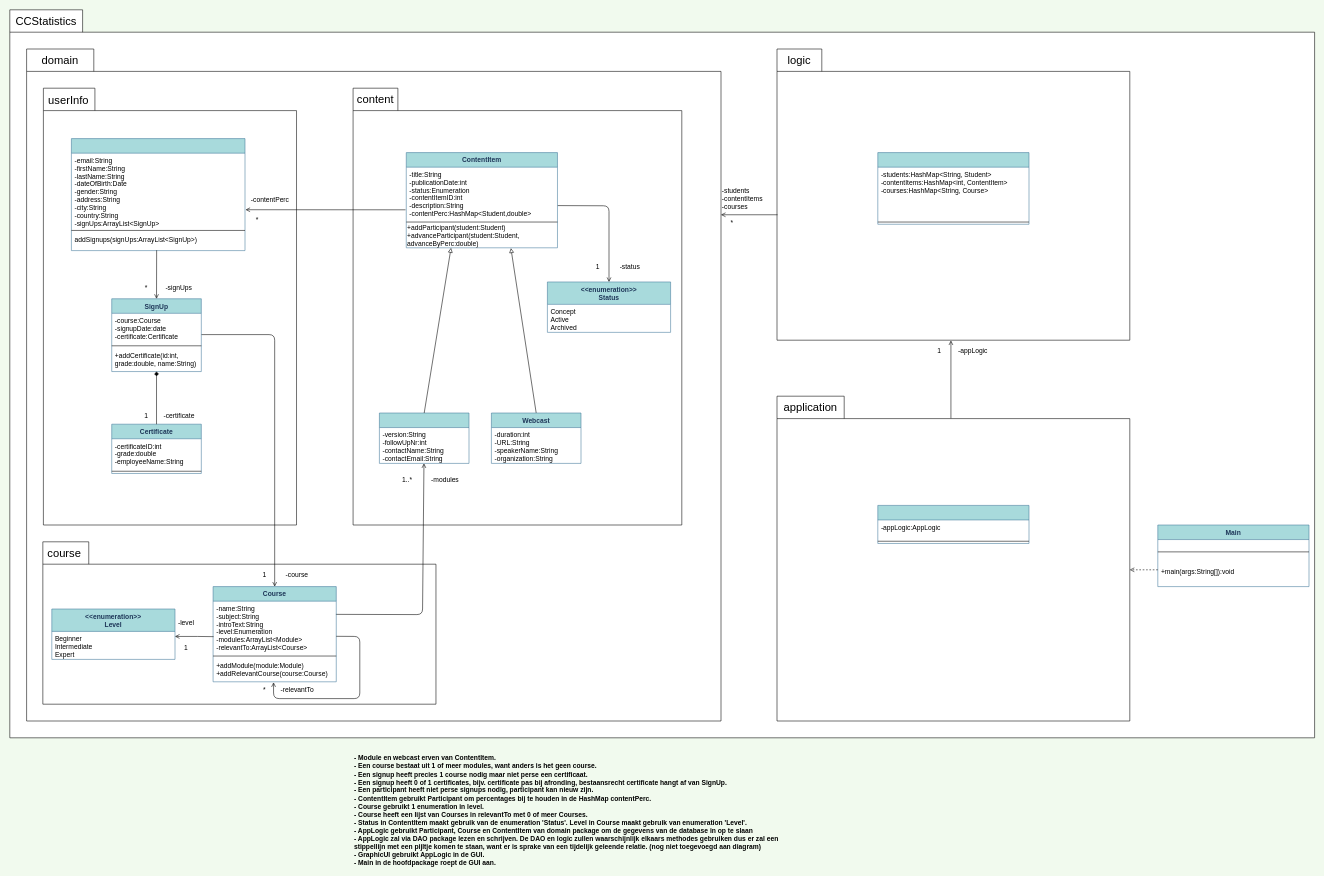
Image size: 1324x876. Some labels were removed from this diagram. Here are the shapes that lost their labels. From the top down, the box of each, then its label:
(71, 138, 245, 251): Student
(877, 152, 1029, 224): AppLogic
(379, 412, 469, 463): Module
(877, 505, 1029, 543): GraphicUI
